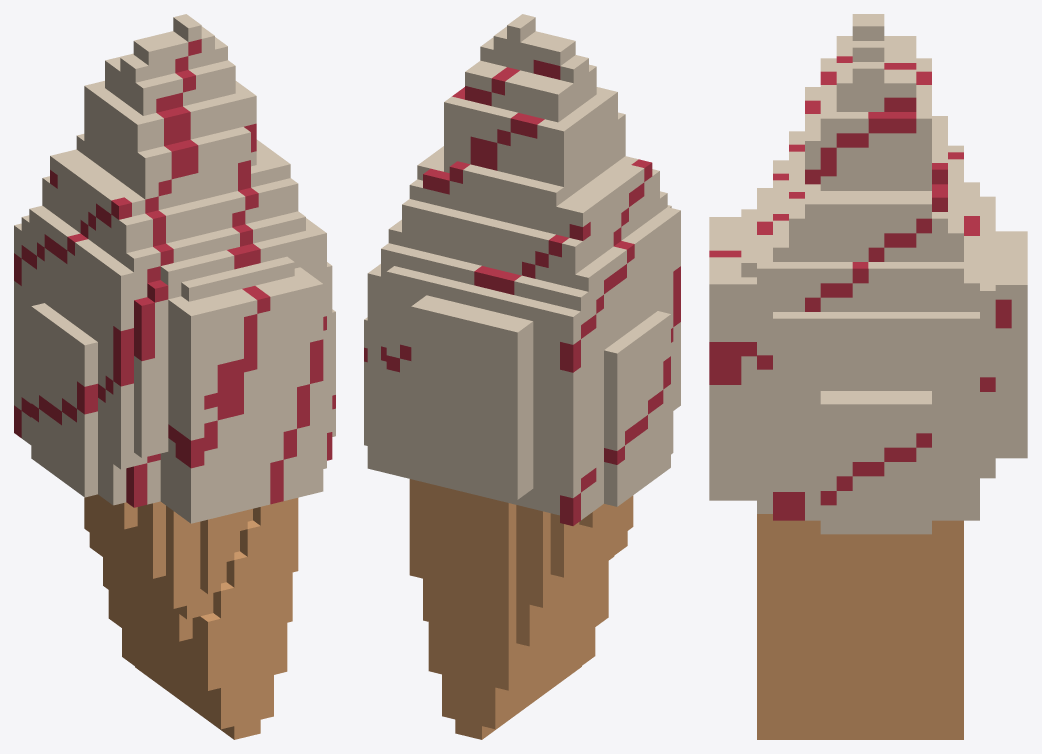
File: Eruption-27.obj
3 renders of one model, left to right at view 1: azimuth 30°, elevation 25°; view 2: azimuth 150°, elevation 25°; view 3: azimuth 270°, elevation 25°, orthographic. The views are drawn at different scales.
Bounding box in the file's own units: 1.9 × 4.9 × 2.
Materials: 1 (1 with a texture image).
